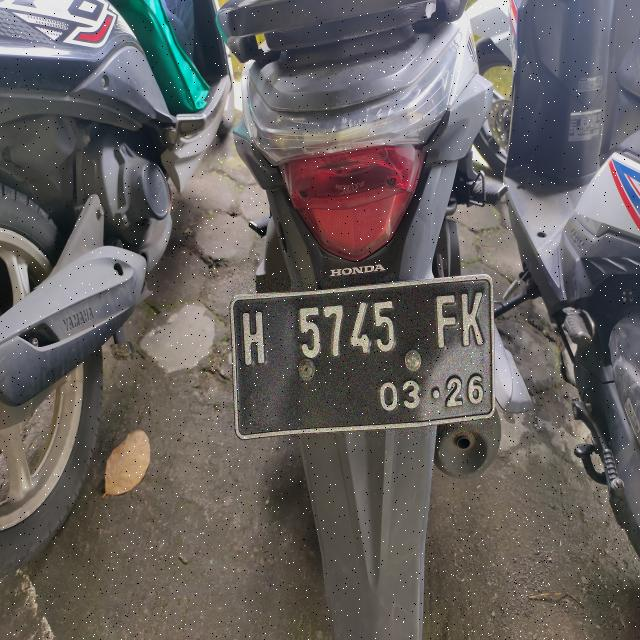plate: (231, 276, 493, 437)
